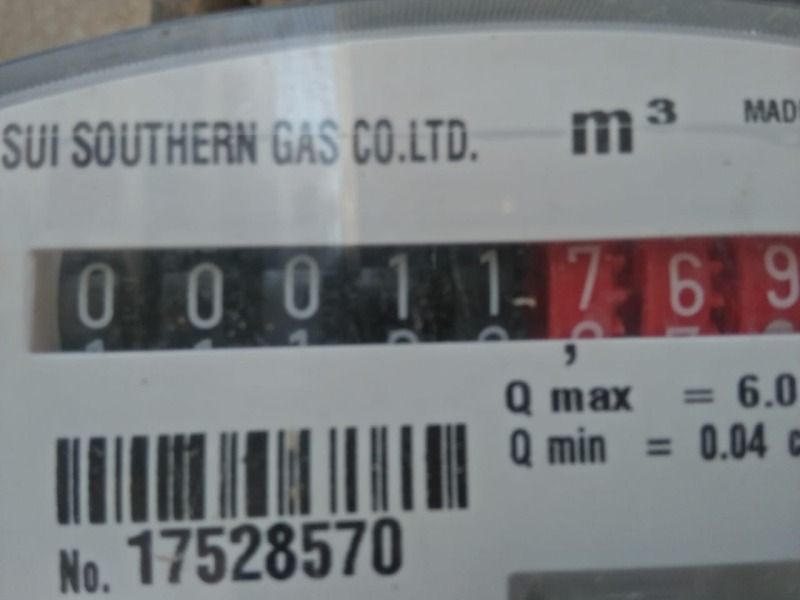ssgc: (30, 230, 797, 346)
